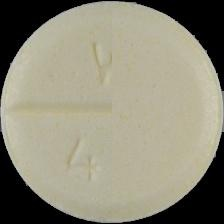0143-1240: (0, 0, 224, 224)
